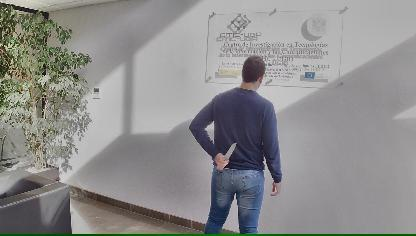knife: (217, 137, 239, 164)
